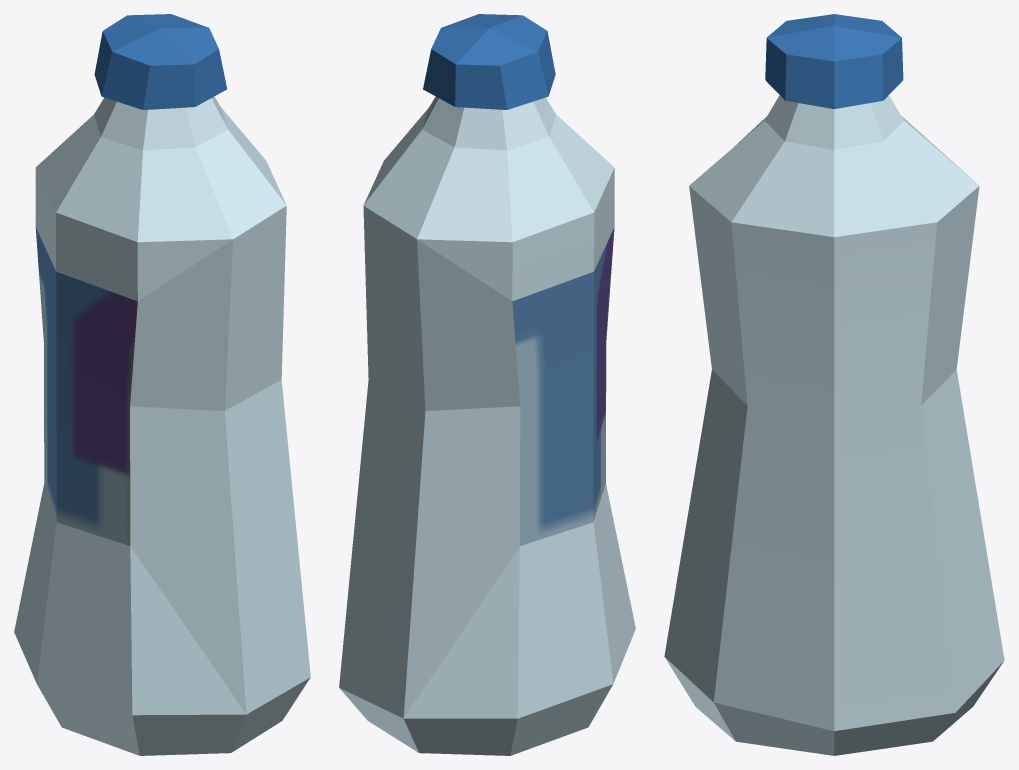
The model's file is SM_Prop_Water_Bottle_01.obj.
3 renders of one model, left to right at view 1: azimuth 30°, elevation 25°; view 2: azimuth 150°, elevation 25°; view 3: azimuth 270°, elevation 25°, orthographic.
Parts seen in each view (by area): view 1: SM_Prop_Water_Bottle_01_0; view 2: SM_Prop_Water_Bottle_01_0; view 3: SM_Prop_Water_Bottle_01_0.
Boxes of the visible parts, x1,y1,x2,y2 form: SM_Prop_Water_Bottle_01_0: (14,14,310,755); SM_Prop_Water_Bottle_01_0: (339,14,635,755); SM_Prop_Water_Bottle_01_0: (664,14,1004,755).
Size of the model in its own units: 0.1119 by 0.2931 by 0.1305.
1 material, 1 textured.
